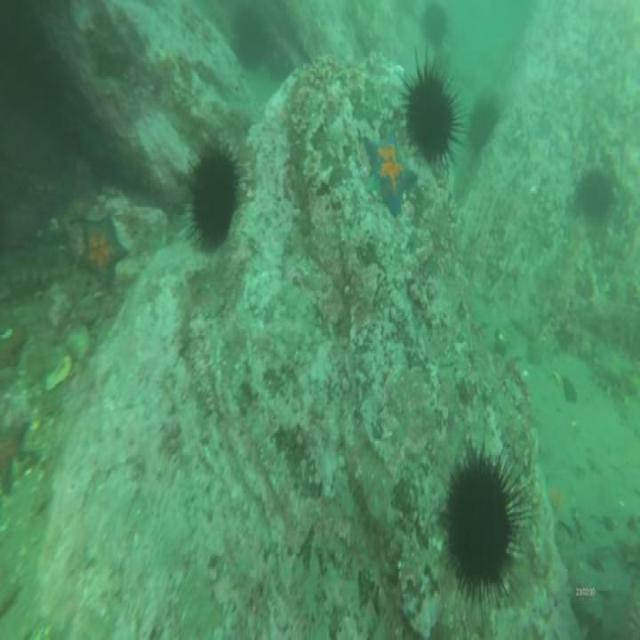echinus: (447, 462, 514, 586), (190, 148, 237, 245), (407, 74, 452, 161), (230, 6, 270, 68), (576, 167, 610, 215), (472, 98, 493, 147), (424, 3, 447, 46)
holothurian: (549, 209, 586, 327), (594, 351, 639, 403)
starfish: (361, 134, 417, 213), (78, 217, 126, 284), (546, 478, 575, 530)
